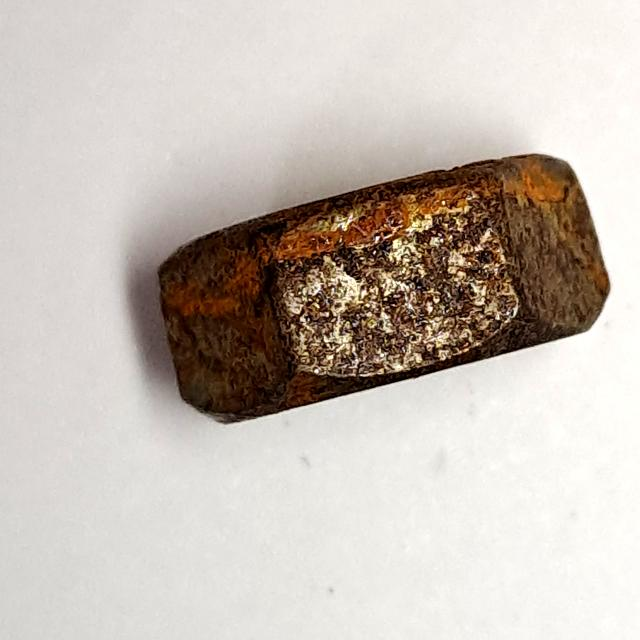Side_Rust: (141, 143, 623, 438)
